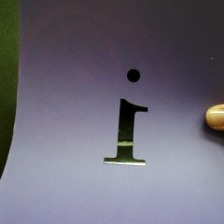violet1: (94, 68, 157, 168)
